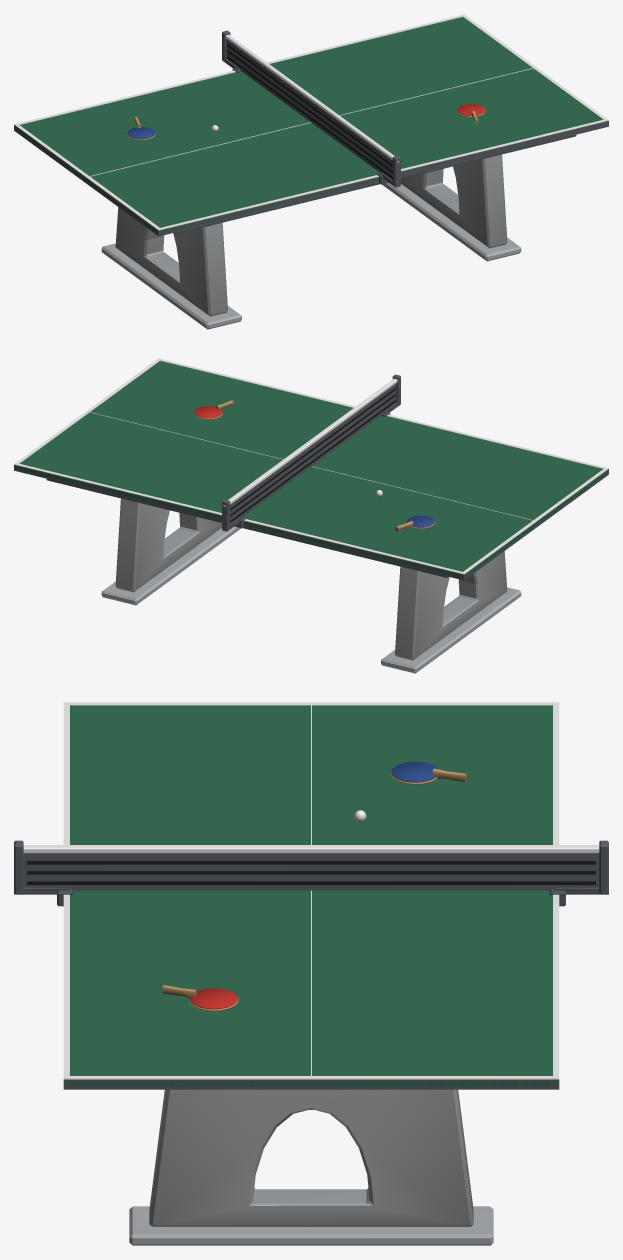
Rendered from pingPongTable.glb.
3 renders of one model, top to bottom at view 1: azimuth 30°, elevation 25°; view 2: azimuth 150°, elevation 25°; view 3: azimuth 270°, elevation 25°, orthographic. The views are drawn at different scales.
Visible parts, largest first — view 1: pingPongTable; view 2: pingPongTable; view 3: pingPongTable.
Boxes of the visible parts, x1=… form: pingPongTable: x1=14, y1=14, x2=608, y2=329; pingPongTable: x1=14, y1=358, x2=608, y2=673; pingPongTable: x1=14, y1=702, x2=608, y2=1245.
Bounding box in the file's own units: 2.74 × 0.925 × 1.83.
